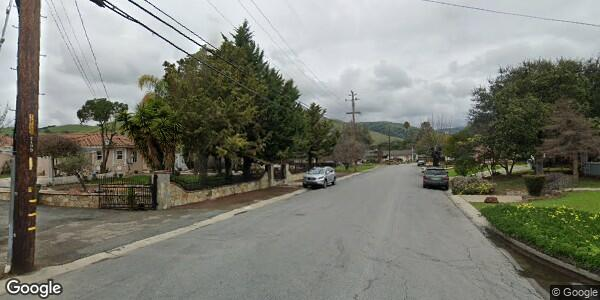Wood_Pole: (1, 1, 55, 276), (341, 86, 368, 177)
